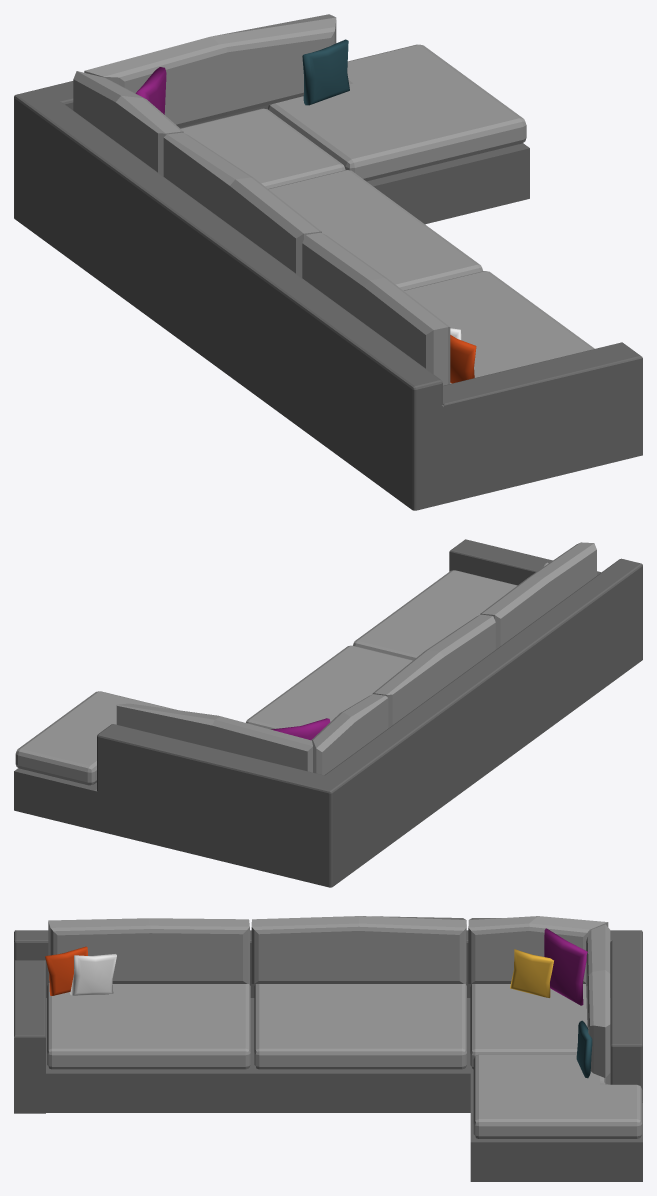
Rendered from coutch-greybox 1.fbx.
3 views of the same model, one above another, from view 1: azimuth 30°, elevation 25°; view 2: azimuth 150°, elevation 25°; view 3: azimuth 270°, elevation 25° (orthographic). The views are drawn at different scales.
Visible parts, largest first — view 1: coutch, sitting cushion, back cushion, Cube.004, Cube, Cube.002; view 2: coutch, back cushion, sitting cushion, Cube.002; view 3: sitting cushion, coutch, back cushion, Cube.002, Cube.001, Cube.003, Cube, Cube.004.
Part boxes in pixels (x1,y1,x2,y2): coutch: (14, 81, 642, 510); sitting cushion: (180, 44, 594, 383); back cushion: (73, 14, 450, 385); Cube.004: (302, 39, 349, 105); Cube: (450, 335, 476, 383); Cube.002: (135, 67, 166, 114); coutch: (14, 539, 642, 887); back cushion: (116, 542, 596, 775); sitting cushion: (15, 570, 517, 785); Cube.002: (271, 718, 330, 740); sitting cushion: (47, 982, 642, 1138); coutch: (14, 930, 642, 1181); back cushion: (48, 916, 610, 1077); Cube.002: (544, 928, 587, 1005); Cube.001: (70, 954, 116, 995); Cube.003: (510, 949, 553, 997); Cube: (45, 946, 87, 995); Cube.004: (576, 1020, 592, 1078).
Size of the model in its own units: 435 by 169 by 740.
